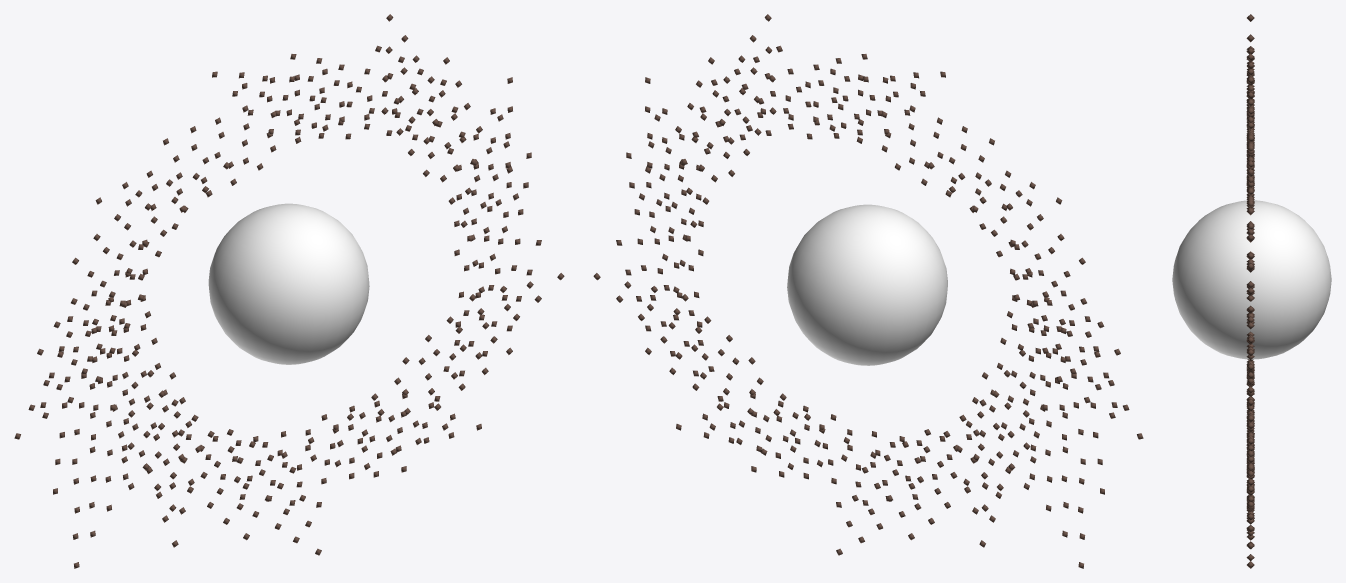
File: planet.glb
3 renders of one model, left to right at view 1: azimuth 30°, elevation 25°; view 2: azimuth 150°, elevation 25°; view 3: azimuth 270°, elevation 25°, orthographic.
Visible parts, largest first — view 1: Sphere001, Sphere414; view 2: Sphere001, Sphere414; view 3: Sphere001, Sphere414.
Boxes of the visible parts, x1,y1,x2,y2 form: Sphere001: (208, 203, 369, 364); Sphere414: (14, 14, 564, 568); Sphere001: (787, 204, 947, 365); Sphere414: (593, 14, 1143, 568); Sphere001: (1172, 200, 1331, 359); Sphere414: (1246, 14, 1254, 568).
Size of the model in its own units: 7.86 by 7.16 by 2.
